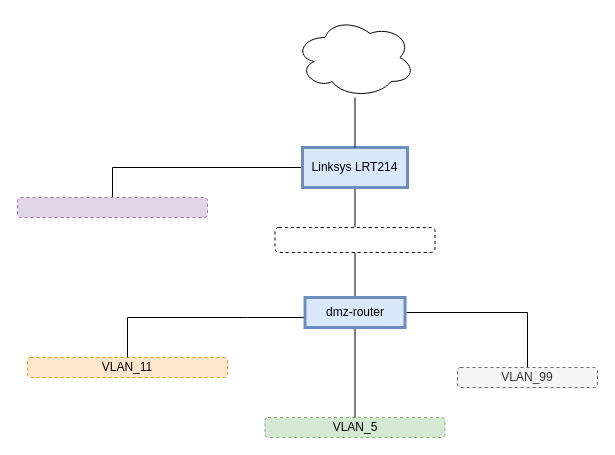
Some shapes in this 615 by 455 pixel diagram are drawn without their labels. Here are the shapes that lost their labels. From the top down, the box of each, then its label:
(294, 16, 415, 98): Internet
(16, 196, 208, 218): VLAN_10
(274, 226, 435, 252): VLAN_9
